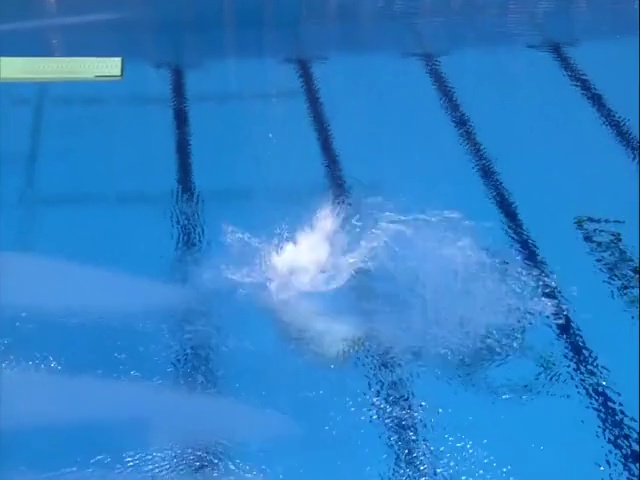splash: (264, 194, 414, 294)
